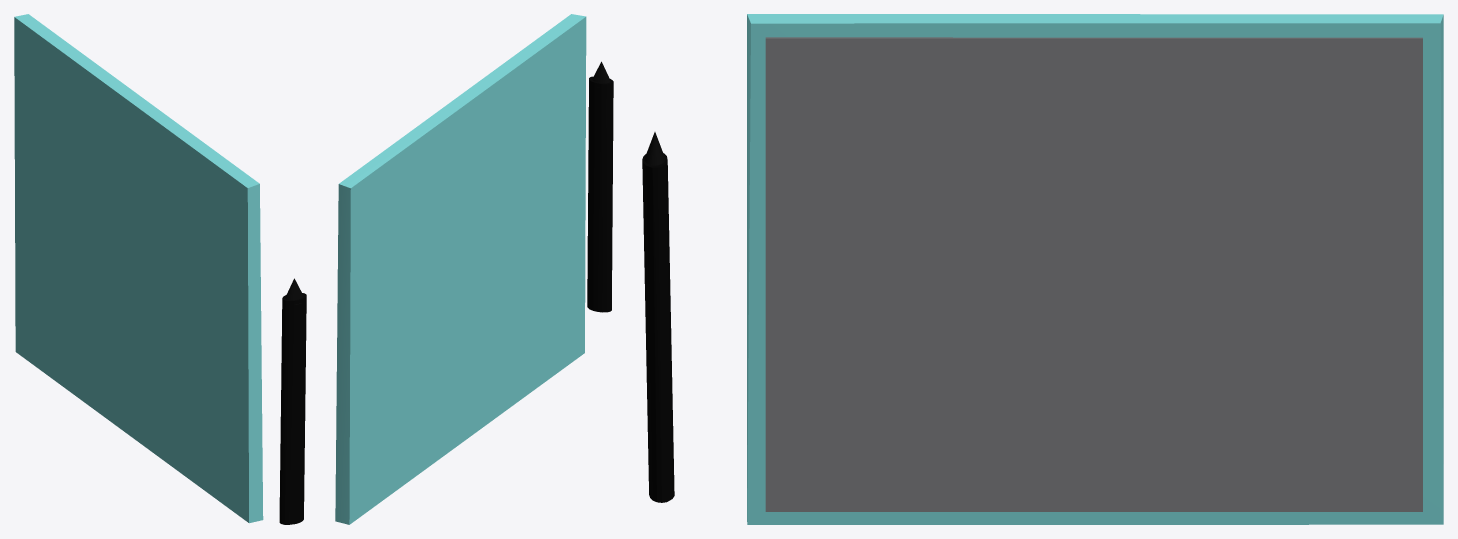
Rendered from tab.glb.
The picture shows the model from 3 angles, left to right: view 1: azimuth 30°, elevation 25°; view 2: azimuth 150°, elevation 25°; view 3: azimuth 270°, elevation 25°; orthographic projection. The views are drawn at different scales.
Visible parts, largest first — view 1: Kerucut; view 2: Kerucut; view 3: Kubus.001, Kerucut.
Boxes of the visible parts, left/top/right/bottom form: Kerucut: left=14, top=14, right=306, bottom=524; Kerucut: left=335, top=14, right=613, bottom=524; Kubus.001: left=765, top=37, right=1422, bottom=511; Kerucut: left=642, top=14, right=1443, bottom=524.
Size of the model in its own units: 0.2381 by 2.8 by 4.07.
